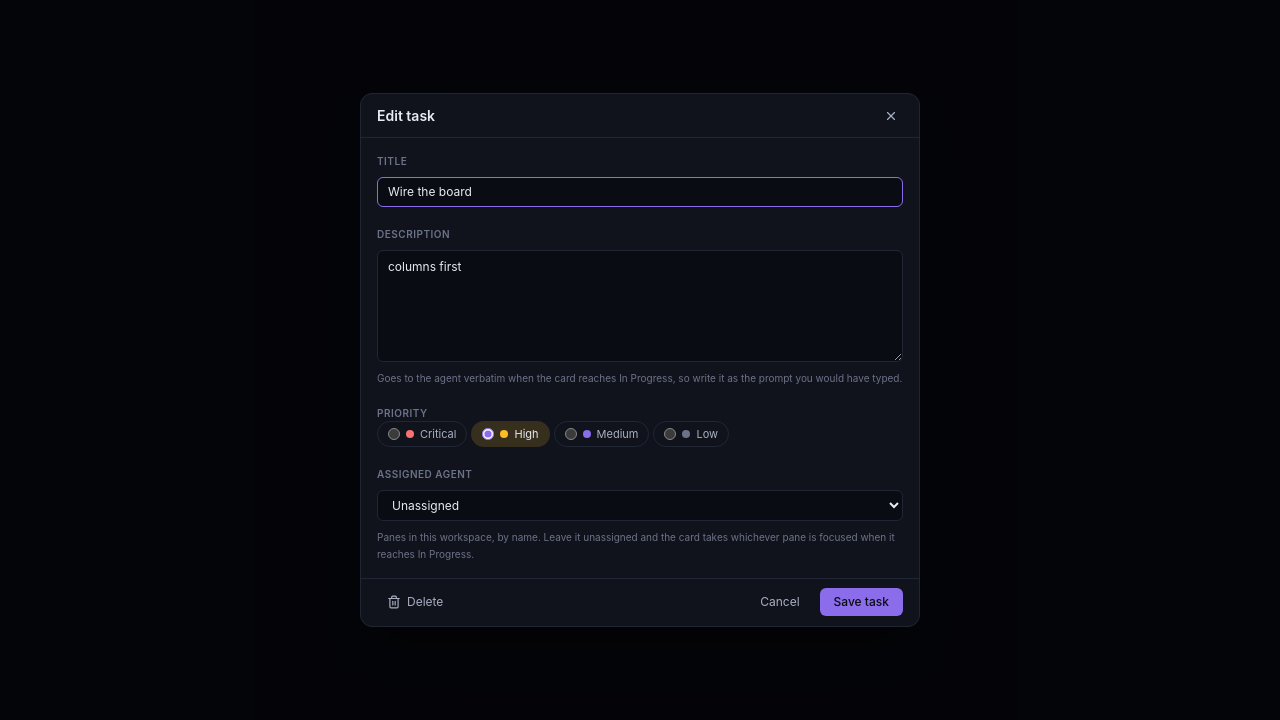
Test: a change the store refuses › keeps the dialog when a delete does not land either
Step 1. Click the button "Delete" → [415, 602], box [377, 588, 453, 616]
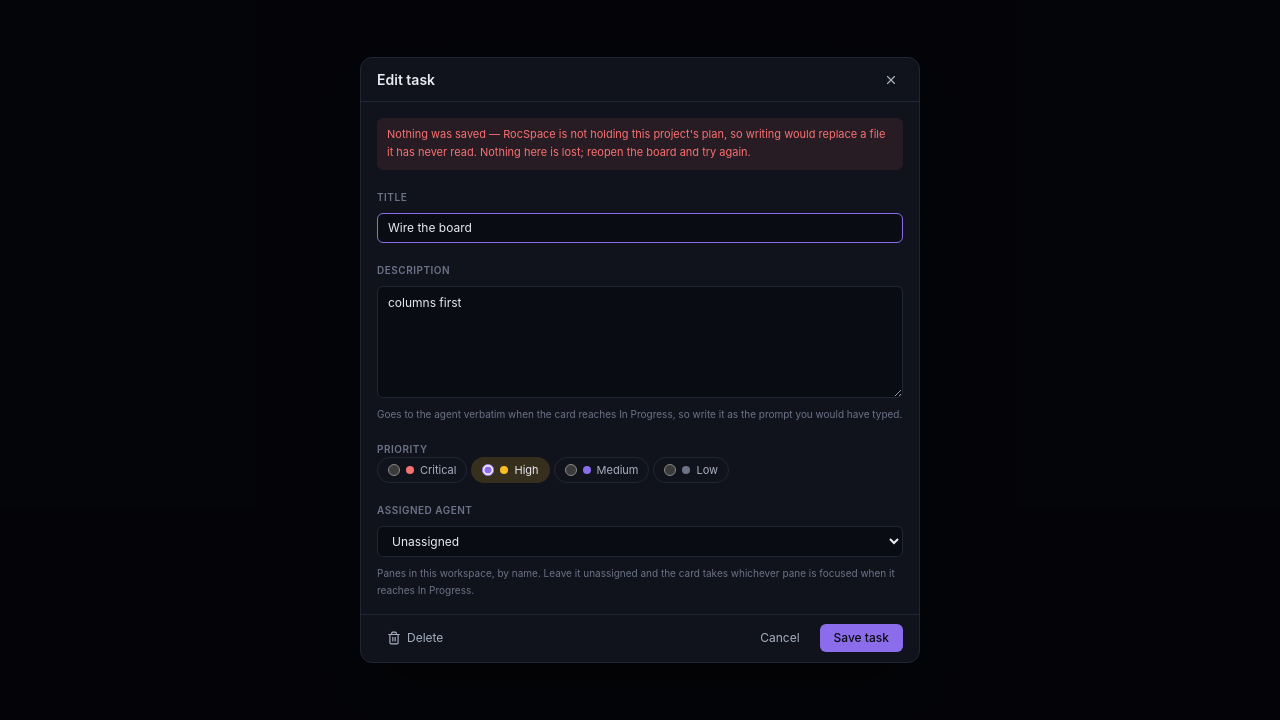
Result: the text "Nothing was saved" is shown at [387, 127, 885, 159]
